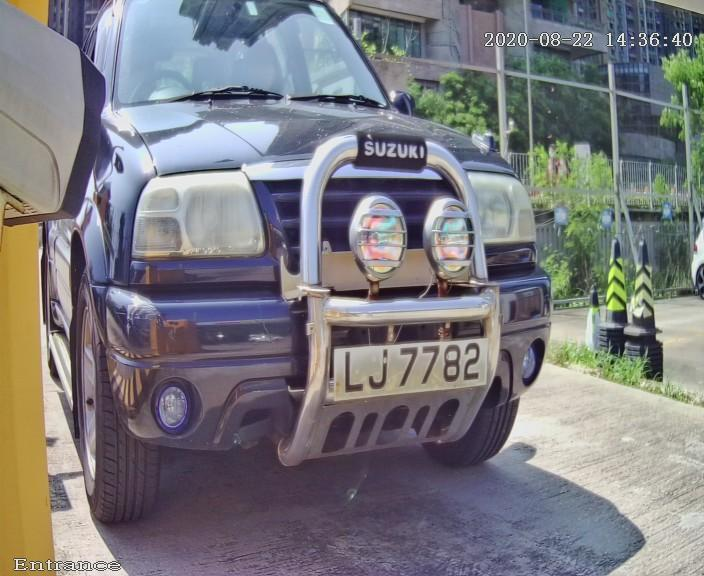License Plate: (301, 318, 515, 422)
